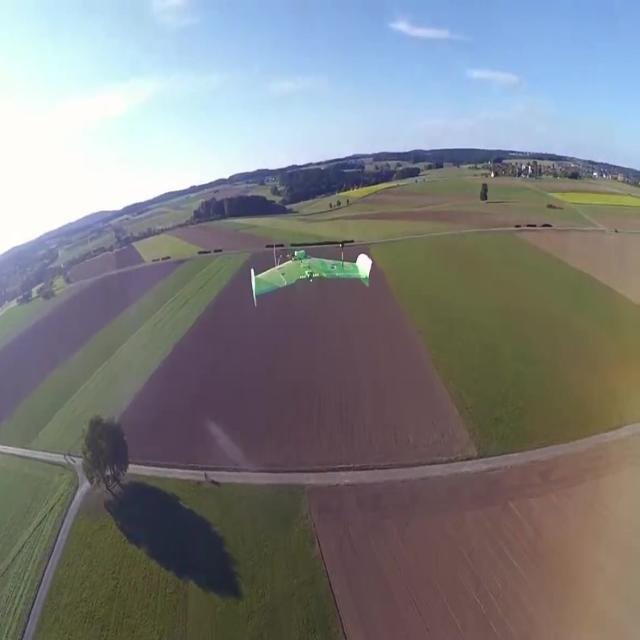iha: (281, 247, 341, 309)
